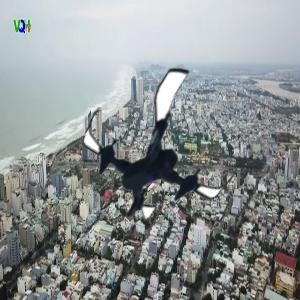drone: (80, 66, 244, 230)
